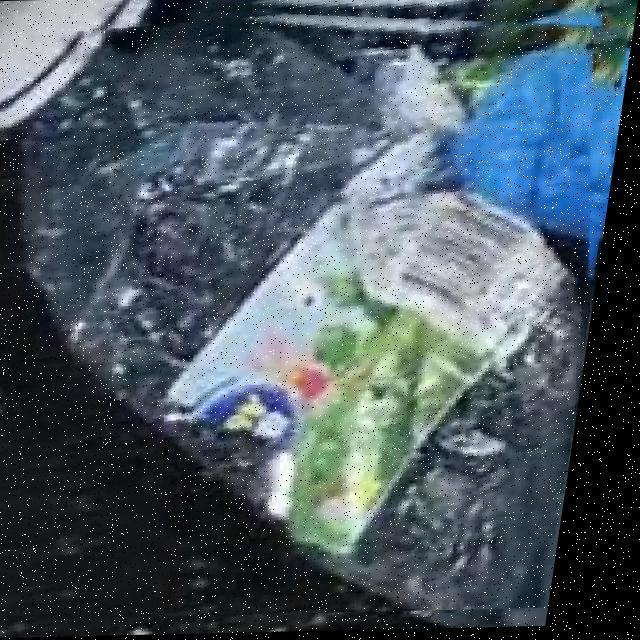litter: (0, 10, 599, 613)
